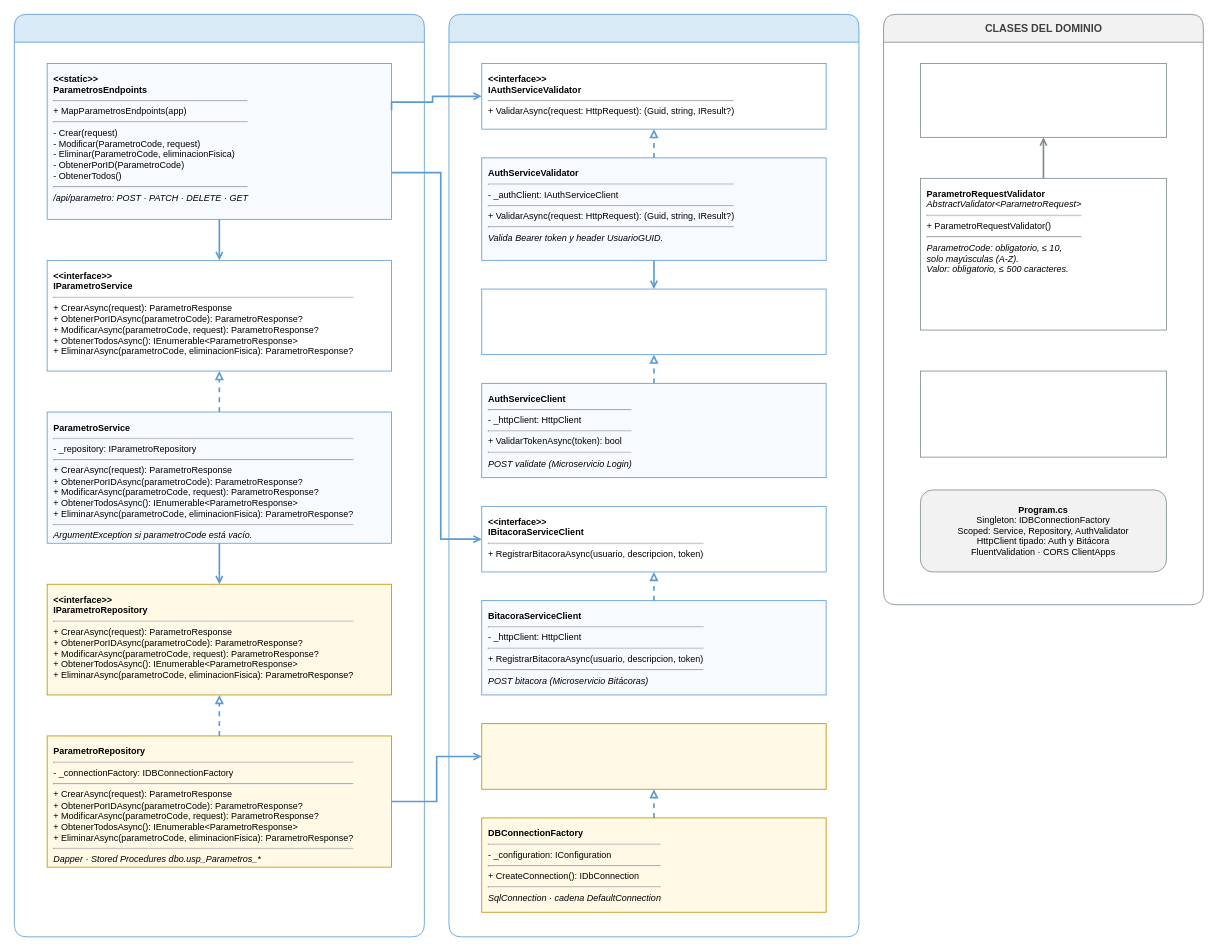
This 1218x951 diagram has some shape labels left out. Here are the shapes that lost their labels. From the top down, the box of each, then its label:
(920, 63, 1166, 137): ParametroRequest + ParametroCode: string + Valor: string
(481, 288, 826, 355): <<interface>> IAuthServiceClient + ValidarTokenAsync(token): bool
(920, 370, 1166, 457): ParametroResponse + ParametroCode: string + Valor: string + Estado: bool
(14, 14, 424, 937): USR3 — PARAMETRIZACIÓN
(448, 14, 859, 937): SEGURIDAD, BITÁCORA E INFRAESTRUCTURA
(481, 723, 826, 789): <<interface>> IDBConnectionFactory + CreateConnection(): IDbConnection
